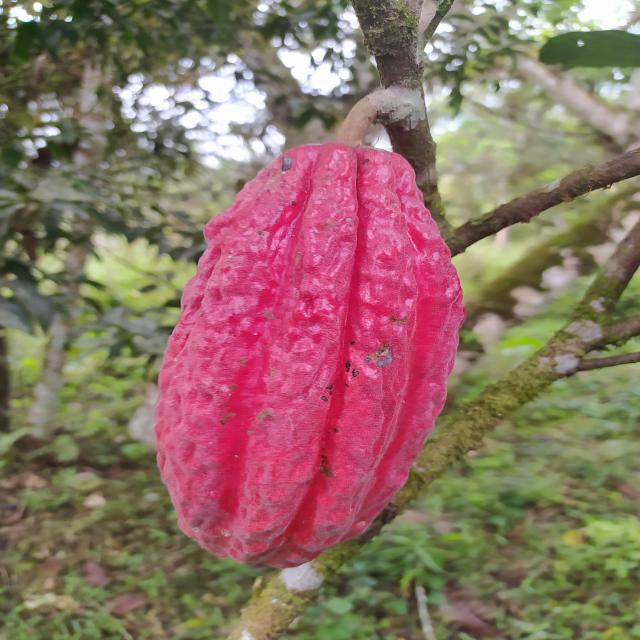Sana: (154, 143, 463, 568)
